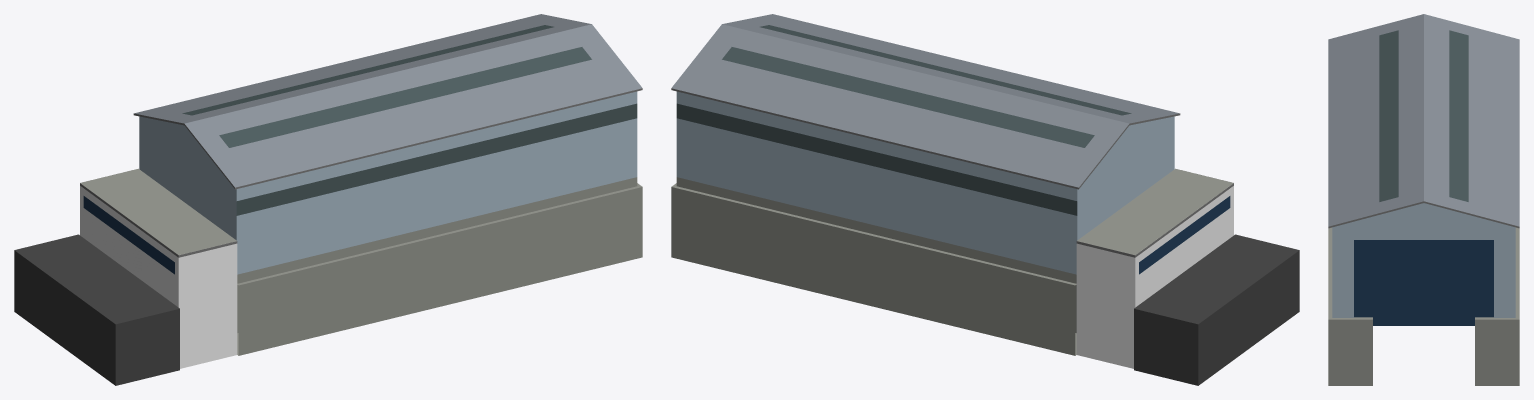
File: far.fbx
3 renders of one model, left to right at view 1: azimuth 30°, elevation 25°; view 2: azimuth 150°, elevation 25°; view 3: azimuth 270°, elevation 25°, orthographic. The views are drawn at different scales.
Parts seen in each view (by area): view 1: a1092/0/far; view 2: a1092/0/far; view 3: a1092/0/far.
Boxes of the visible parts, x1,y1,x2,y2 form: a1092/0/far: [14, 14, 642, 385]; a1092/0/far: [671, 14, 1299, 385]; a1092/0/far: [1328, 14, 1519, 385].
Bounding box in the file's own units: 90 × 32 × 30.
